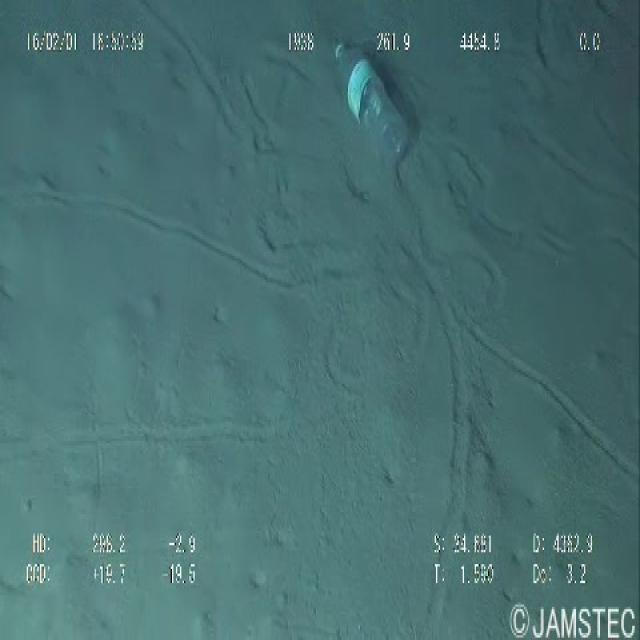plastic: (324, 28, 415, 170)
